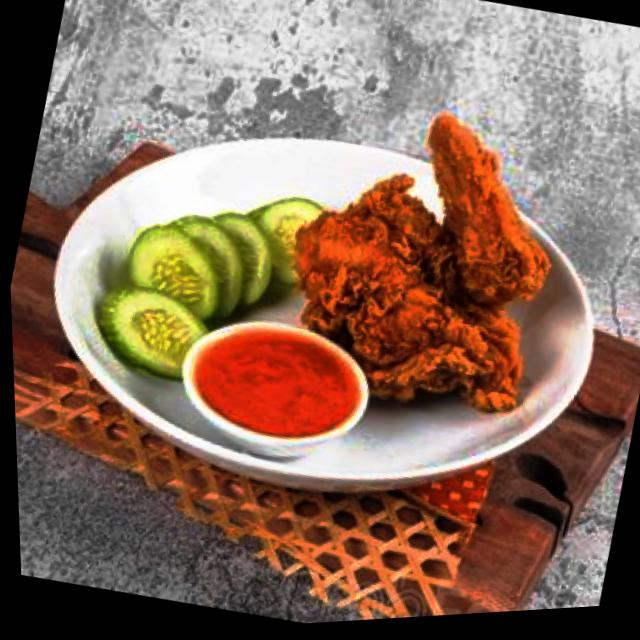fried_chicken: (265, 86, 587, 437)
